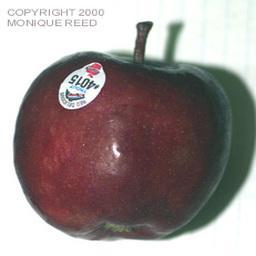apple: (13, 48, 232, 240)
